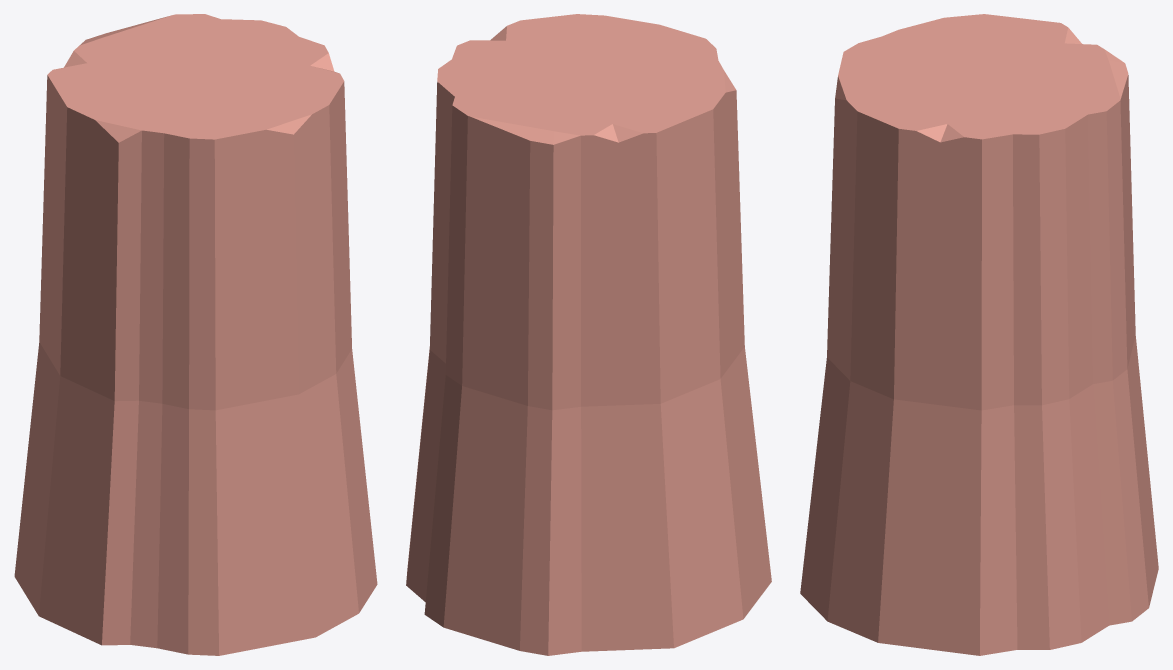
File: Cylinder_035_Vlad.fbx
3 views of the same model, side by side, from view 1: azimuth 30°, elevation 25°; view 2: azimuth 150°, elevation 25°; view 3: azimuth 270°, elevation 25° (orthographic).
Parts seen in each view (by area): view 1: Cylinder.035; view 2: Cylinder.035; view 3: Cylinder.035.
Boxes of the visible parts, left/top/right/bottom form: Cylinder.035: left=14, top=14, right=377, bottom=655; Cylinder.035: left=406, top=14, right=771, bottom=655; Cylinder.035: left=800, top=14, right=1158, bottom=655.
Bounding box in the file's own units: 327 × 500 × 323.
